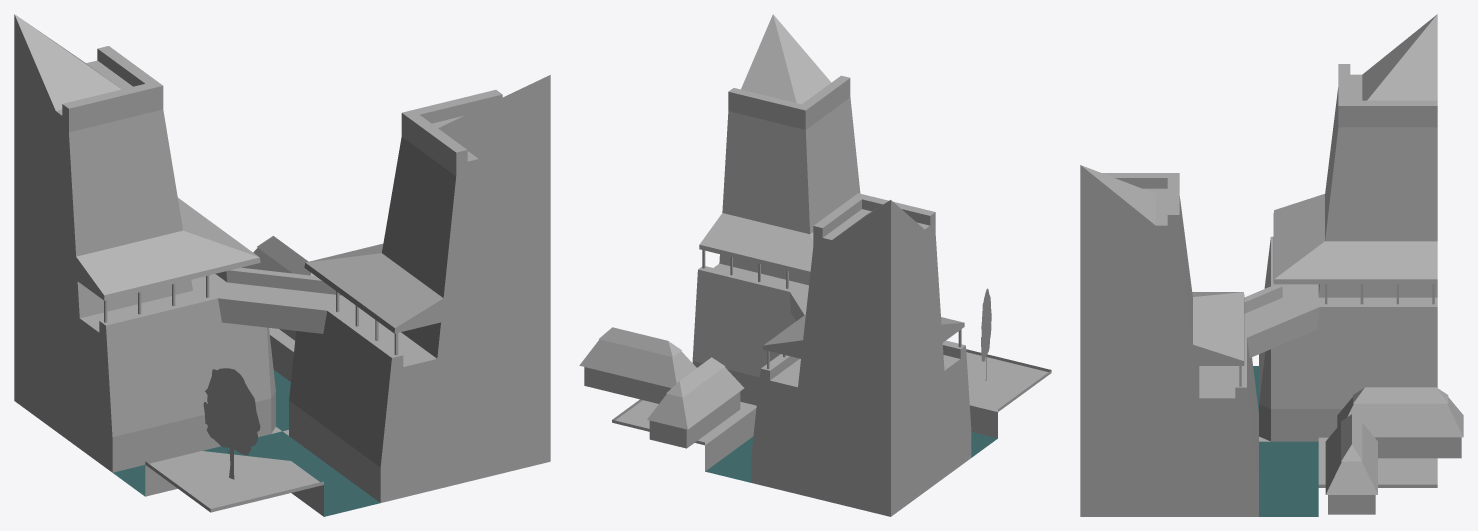
The picture shows the model from 3 angles, left to right: view 1: azimuth 30°, elevation 25°; view 2: azimuth 150°, elevation 25°; view 3: azimuth 270°, elevation 25°; orthographic projection. The views are drawn at different scales.
Visible parts, largest first — view 1: c1cw; view 2: c1cw; view 3: c1cw.
Boxes of the visible parts, x1=… form: c1cw: x1=14, y1=14, x2=550, y2=516; c1cw: x1=579, y1=14, x2=1051, y2=516; c1cw: x1=1080, y1=14, x2=1463, y2=516.
Size of the model in its own units: 36.43 by 32.63 by 32.18.
